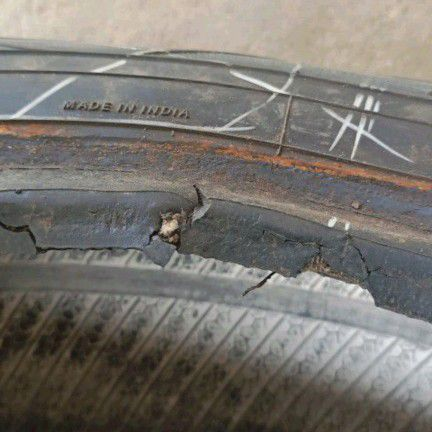bead_damage: (2, 178, 411, 320)
